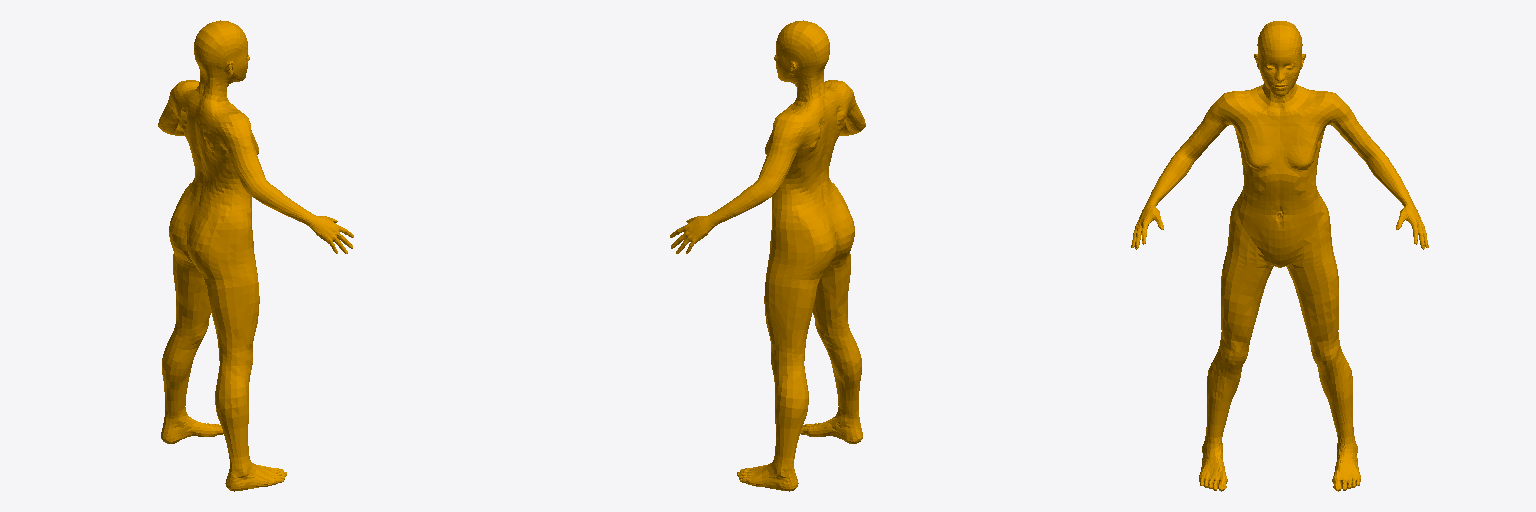
robot.urdf — field_teammate_human:
<?xml version="1.0"?>
<!--
  Field-teammate human body model.

  Mesh: MakeHuman "hm08" base mesh, public domain (CC0 1.0).
        See ../vendor/makehuman_hm08_cc0/LICENSE.txt
        A bare, realistically-proportioned neutral standing body (the
        SAM 3D Body / SMPL-X aesthetic), not a stylized character.

  Orientation: MakeHuman native = +Y up, faces +Z, ~2 m tall in native units.
  The transform below re-poses it into the ROS `base` frame:
      rpy 1.5707963268 0 1.5707963268  -> +Z up, faces +X (the camera/FPV
                                          forward axis), so the projected FPV
                                          view sits in FRONT of the face.
      scale 0.105                       -> ~1.75 m tall.
      origin z 0.858                    -> feet at z=0.
      origin x -0.116                   -> body front/back centred over the feet.
-->
<robot name="field_teammate_human">
  <link name="base">
    <visual name="human_body">
      <origin xyz="-0.116 0.0 0.858" rpy="1.5707963268 0 1.5707963268"/>
      <geometry>
        <mesh filename="../vendor/makehuman_hm08_cc0/field_teammate_human_body.obj" scale="0.105 0.105 0.105"/>
      </geometry>
    </visual>

    <collision name="body_proxy">
      <origin xyz="0 0 0.875" rpy="0 0 0"/>
      <geometry><box size="0.32 0.50 1.75"/></geometry>
    </collision>
  </link>
</robot>

--- Render facts (derived) ---
Views: 3 orthographic renders of the robot side by side, from view 1: azimuth 30°, elevation 25°; view 2: azimuth 150°, elevation 25°; view 3: azimuth 270°, elevation 25°.
Robot: field_teammate_human — 1 links, 0 joints (none); root link base; default pose: all joints at 0.
Links seen in each view (by area): view 1: base; view 2: base; view 3: base.
Link boxes in pixels (box(x1,y1,x2,y2)): base: box(158, 20, 353, 491); base: box(670, 20, 865, 491); base: box(1131, 21, 1428, 491).
Size in the robot's own frame: 0.4442 by 1.04 by 1.75 metres.
Meshes: 1 distinct files referenced, 1 mesh visuals loaded (1 OBJ).
